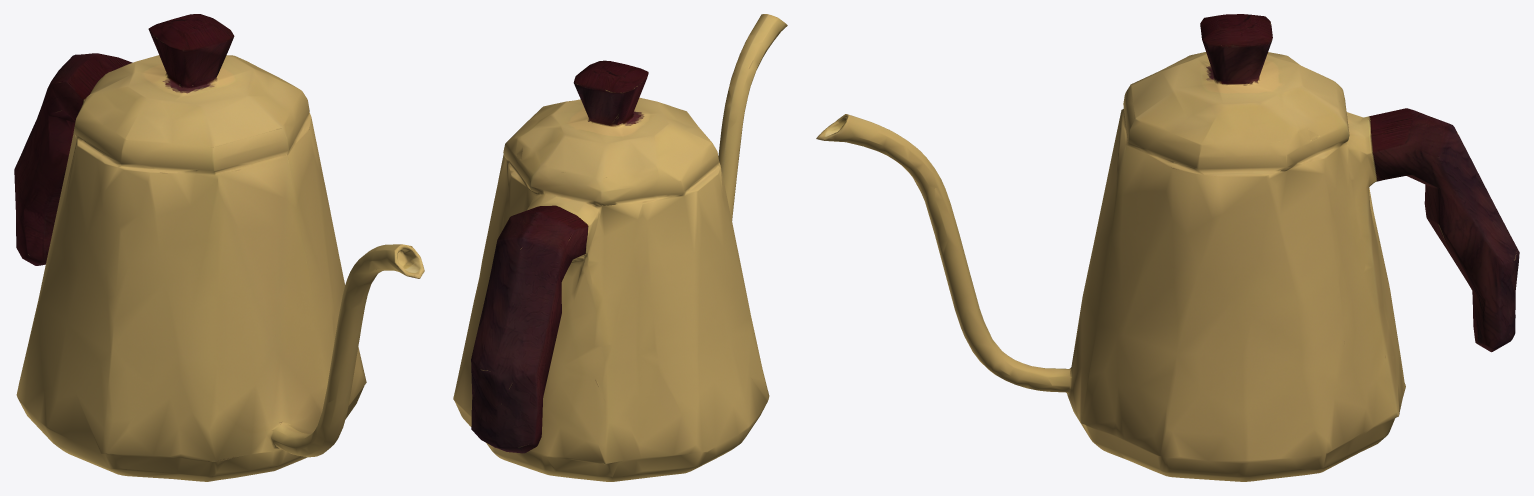
The model's file is gooseneck_kettle.glb.
The picture shows the model from 3 angles, left to right: view 1: azimuth 30°, elevation 25°; view 2: azimuth 150°, elevation 25°; view 3: azimuth 270°, elevation 25°; orthographic projection. The views are drawn at different scales.
Parts seen in each view (by area): view 1: Mesh1.001; view 2: Mesh1.001; view 3: Mesh1.001.
Part boxes in pixels (x1=…): Mesh1.001: x1=14, y1=14, x2=424, y2=481; Mesh1.001: x1=453, y1=14, x2=787, y2=481; Mesh1.001: x1=816, y1=14, x2=1519, y2=481.
Size of the model in its own units: 0.9351 by 1.22 by 1.91.
1 material, 1 textured.
